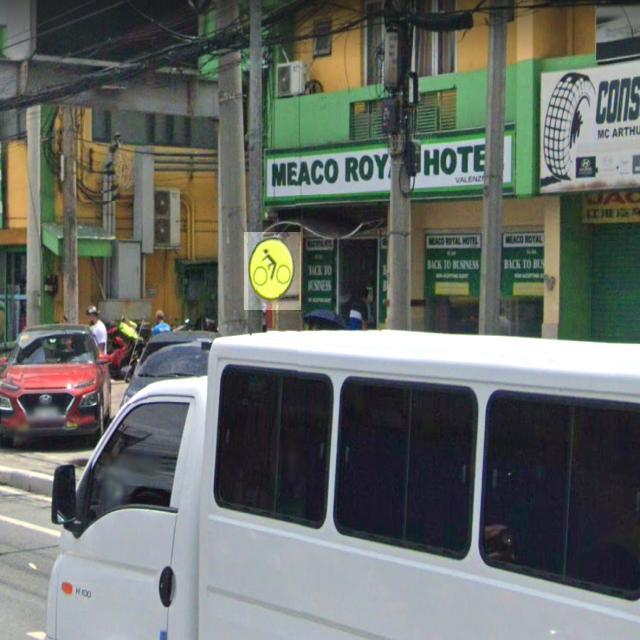bike lane: (244, 232, 301, 310)
